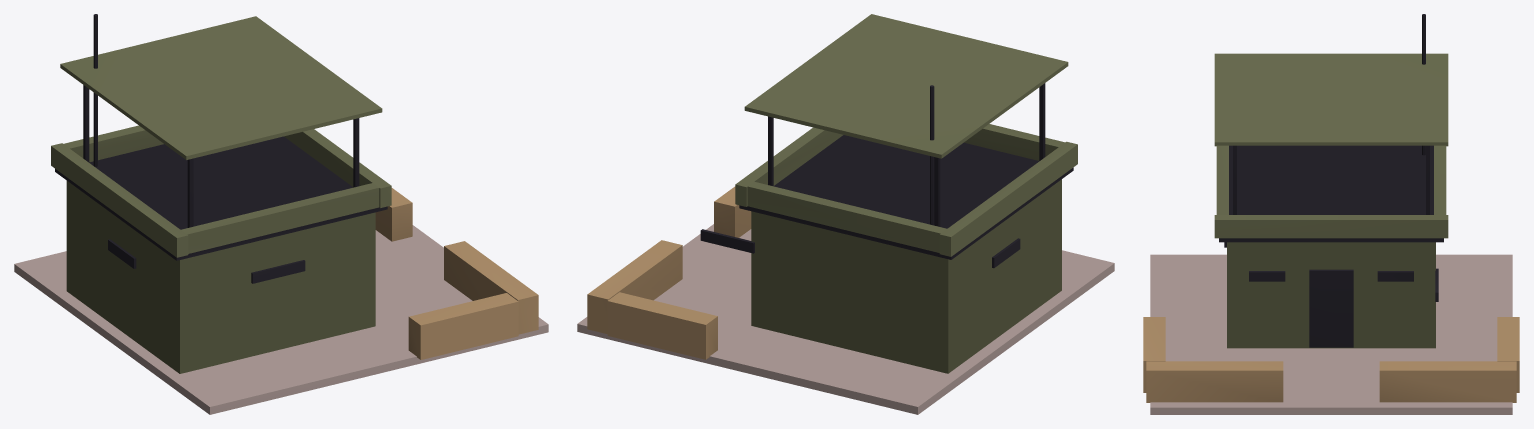
File: bld.cure-guard-post.lod2.glb
3 renders of one model, left to right at view 1: azimuth 30°, elevation 25°; view 2: azimuth 150°, elevation 25°; view 3: azimuth 270°, elevation 25°, orthographic. The views are drawn at different scales.
Parts seen in each view (by area): view 1: body; view 2: body; view 3: body.
Boxes of the visible parts, x1,y1,x2,y2 form: body: [14, 14, 548, 414]; body: [577, 14, 1114, 414]; body: [1143, 14, 1519, 414].
Size of the model in its own units: 9 by 7.2 by 9.35.
